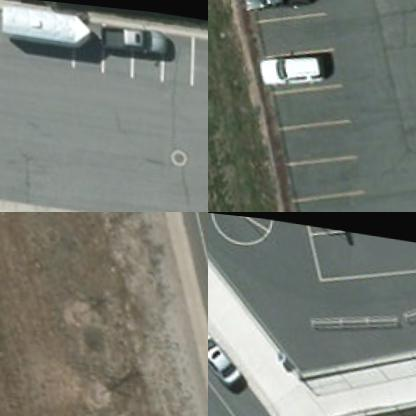car: (256, 41, 326, 102), (100, 18, 166, 57), (208, 319, 244, 388)
pickup: (239, 0, 317, 24)
